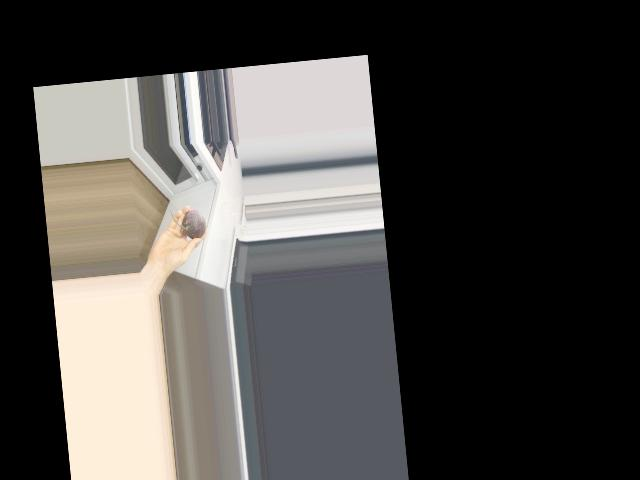beet: (169, 205, 207, 240)
